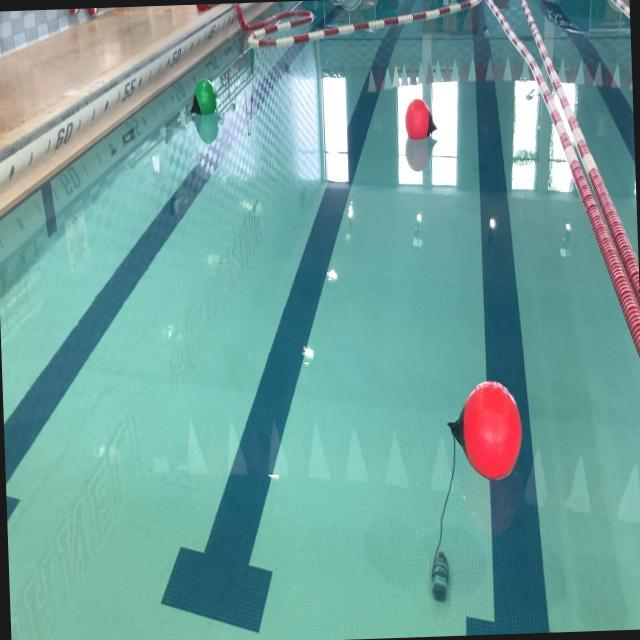buoy: (446, 376, 524, 482), (402, 98, 438, 143), (188, 79, 218, 116)
